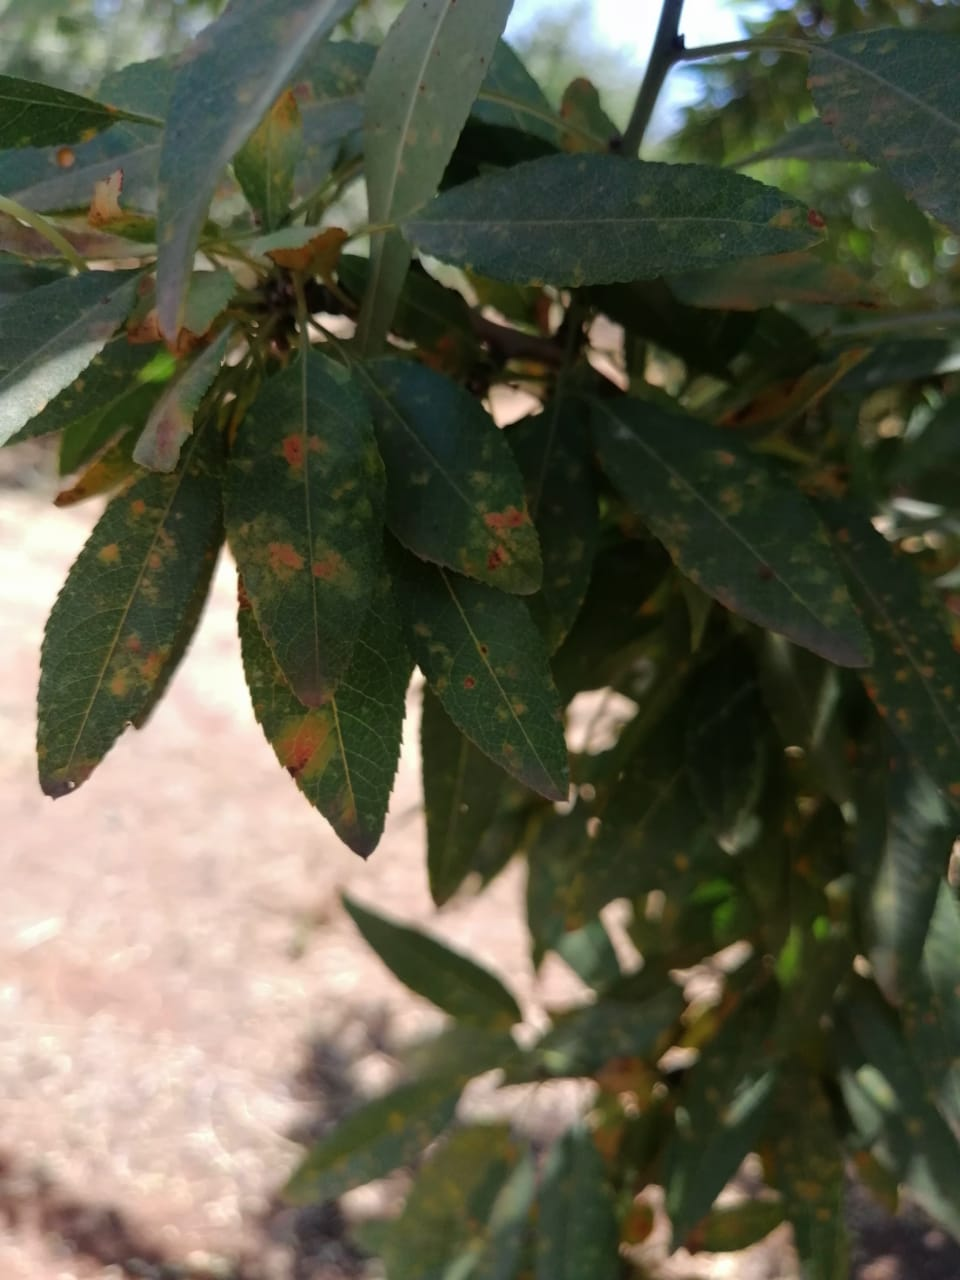polystigma: (575, 377, 879, 671), (33, 456, 219, 802), (225, 342, 394, 711), (394, 149, 832, 290), (346, 352, 546, 594), (392, 545, 571, 804)
